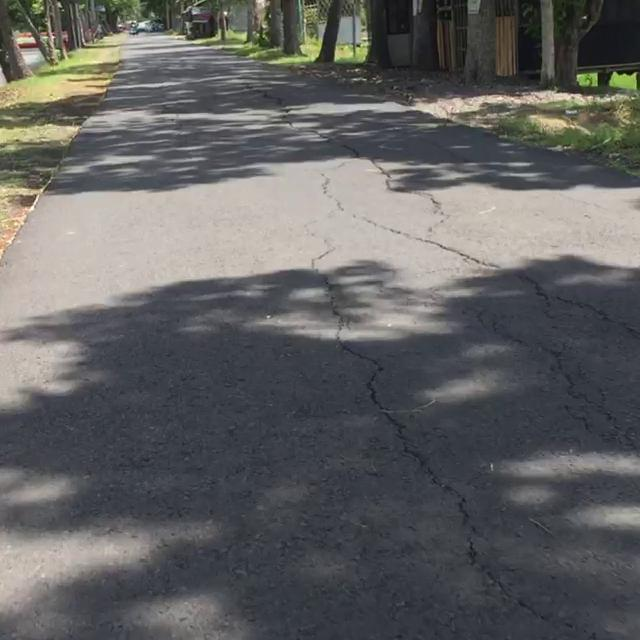retak_memanjang: (291, 257, 514, 611), (489, 324, 640, 572), (299, 160, 510, 279)
